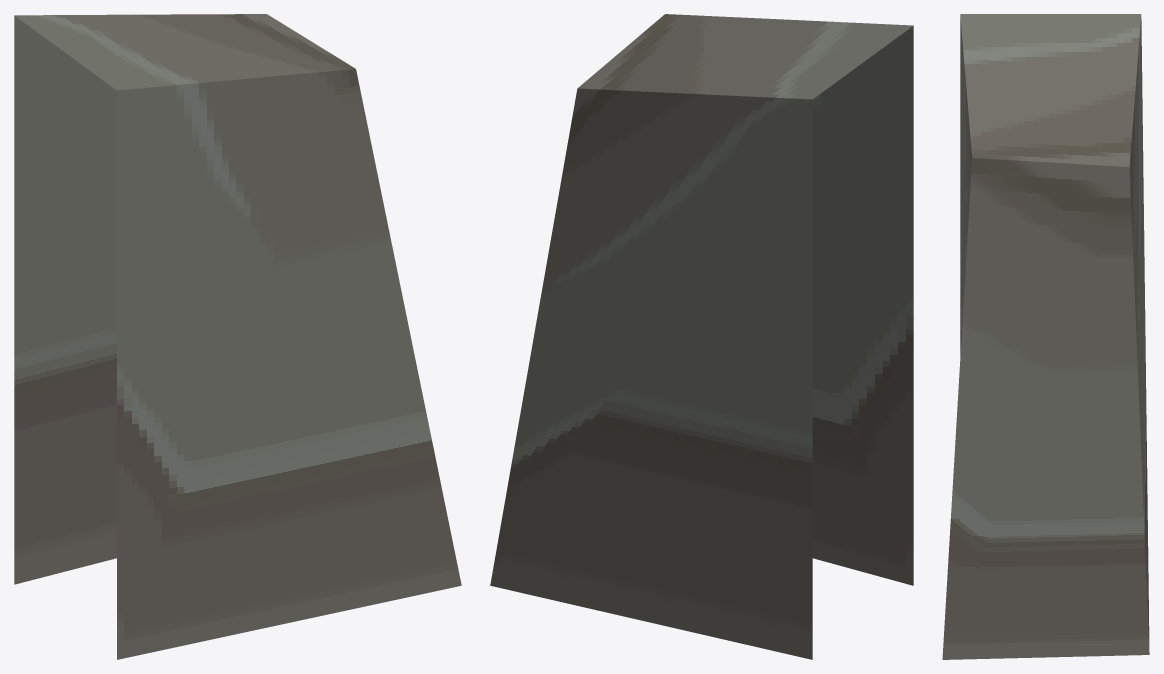
Rendered from wall_end_col.glb.
The picture shows the model from 3 angles, left to right: view 1: azimuth 30°, elevation 25°; view 2: azimuth 150°, elevation 25°; view 3: azimuth 270°, elevation 25°; orthographic projection. The views are drawn at different scales.
Parts seen in each view (by area): view 1: wall_end_col; view 2: wall_end_col; view 3: wall_end_col.
Boxes of the visible parts, <box> form: wall_end_col: <box>14,14,461,659</box>; wall_end_col: <box>490,14,913,659</box>; wall_end_col: <box>942,14,1149,659</box>.
Bounding box in the file's own units: 0.6807 × 1.11 × 0.4137.
Materials: 1 (1 with a texture image).
